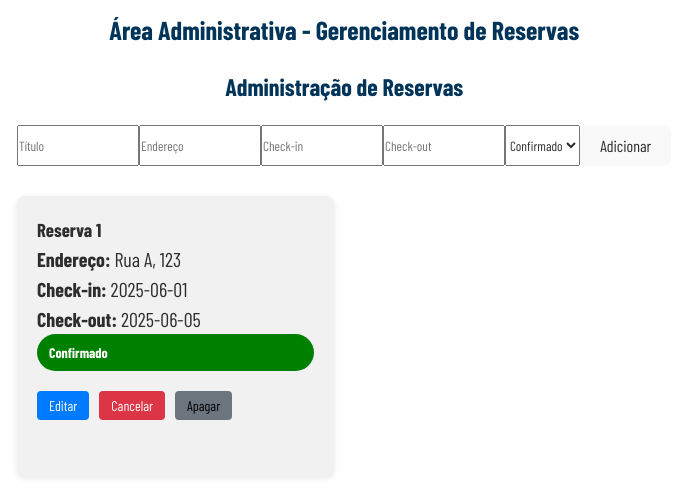
Scenario: AdminReservationCrud › deve editar uma reserva existente
This screenshot has width=688, height=496.
Click the button "Editar" at coordinates (63, 405), box [37,391,89,420]
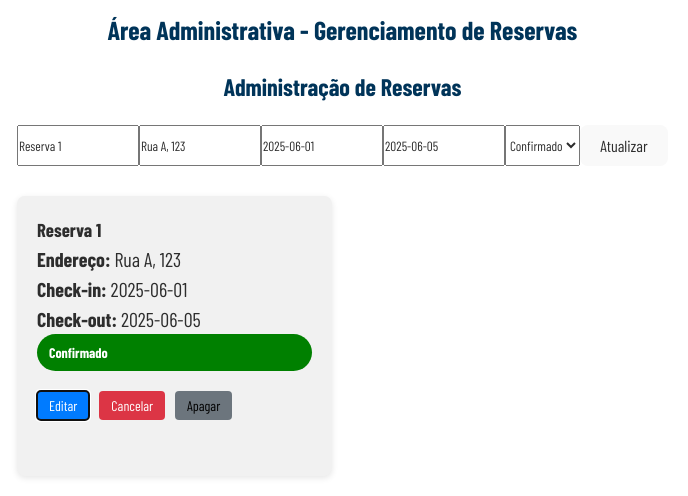
Replace the text in the 1st field with placeholder "Título" with "Reserva Editada" at coordinates (78, 146), box [17,125,139,166]
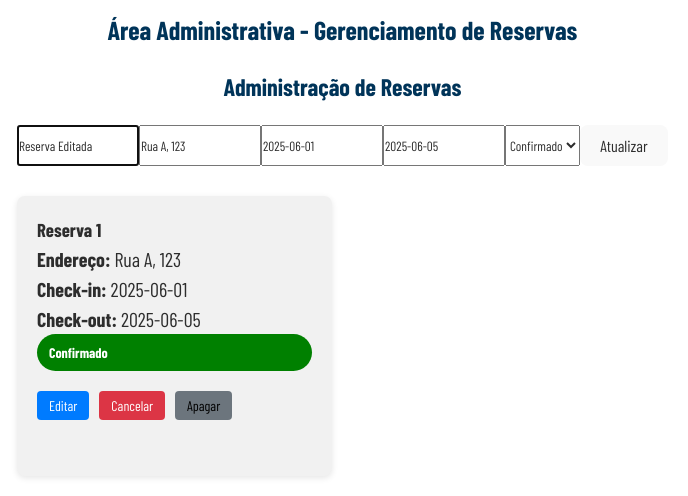
Click the button "Atualizar" at coordinates (624, 146), box [580,125,668,166]
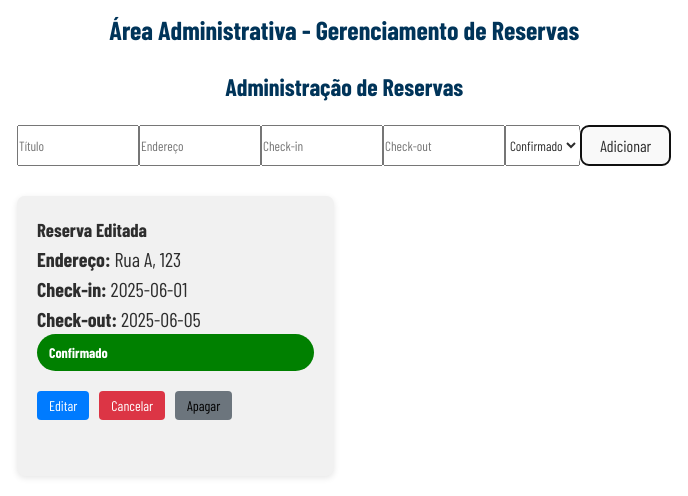
Expected: the heading "Reserva Editada" is shown, [37,218,147,241]
